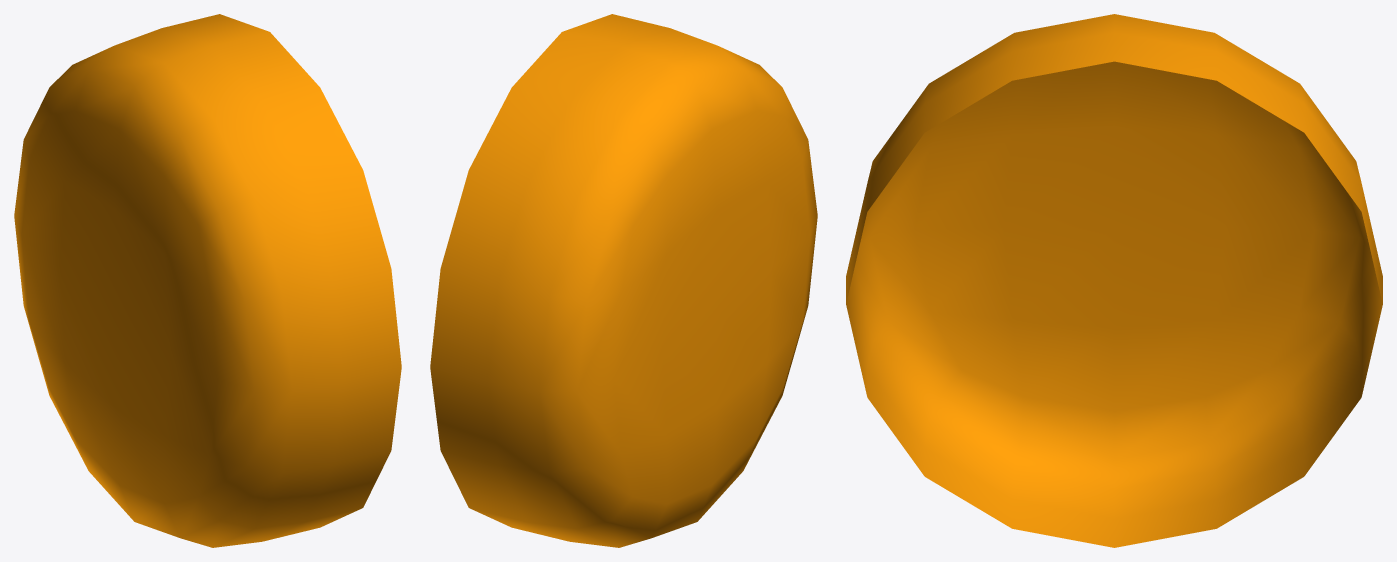
Rendered from button_orange.FBX.
3 renders of one model, left to right at view 1: azimuth 30°, elevation 25°; view 2: azimuth 150°, elevation 25°; view 3: azimuth 270°, elevation 25°, orthographic.
Visible parts, largest first — view 1: Object166; view 2: Object166; view 3: Object166.
Part boxes in pixels (bbox=[...]): Object166: bbox=[14, 14, 401, 547]; Object166: bbox=[430, 14, 817, 547]; Object166: bbox=[846, 14, 1382, 547].
Size of the model in its own units: 0.0482 by 0.142 by 0.142.
